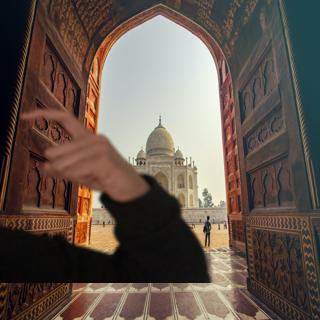WHY: (18, 102, 145, 199)
